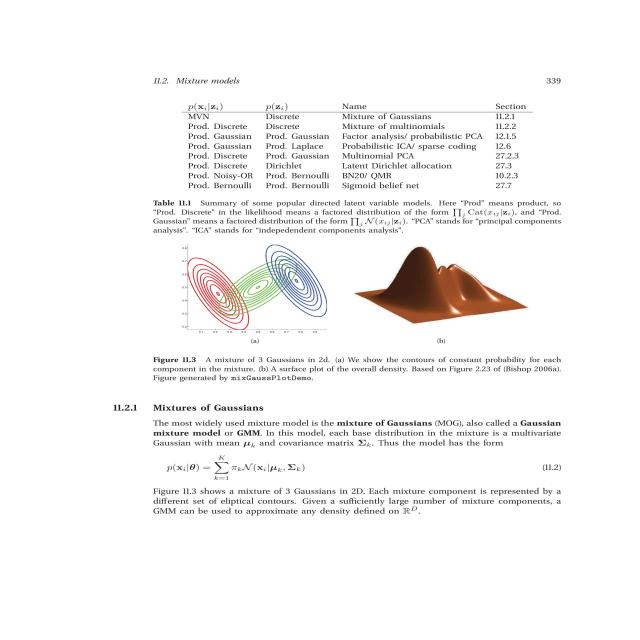diagram: (158, 240, 559, 400)
